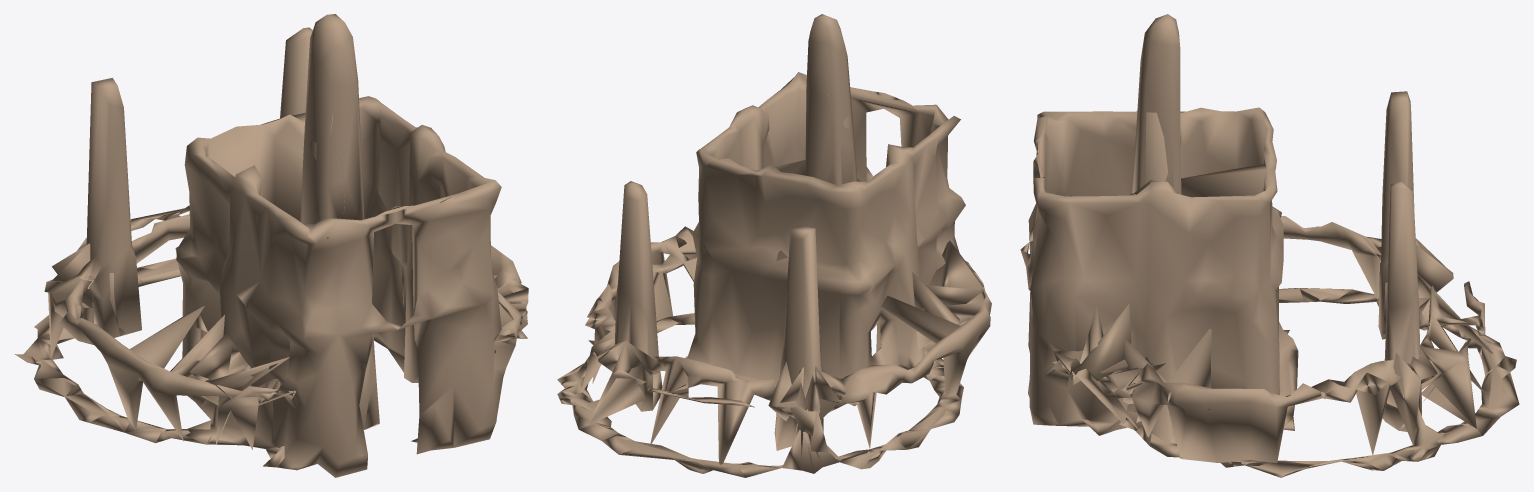
Rendered from monumento_c.glb.
3 renders of one model, left to right at view 1: azimuth 30°, elevation 25°; view 2: azimuth 150°, elevation 25°; view 3: azimuth 270°, elevation 25°, orthographic. The views are drawn at different scales.
Visible parts, largest first — view 1: monumento_c; view 2: monumento_c; view 3: monumento_c.
Part boxes in pixels (left/top/right/bottom): monumento_c: left=14, top=14, right=528, bottom=477; monumento_c: left=557, top=14, right=991, bottom=477; monumento_c: left=1020, top=14, right=1519, bottom=477.
Size of the model in its own units: 13.18 by 12.03 by 14.59.
